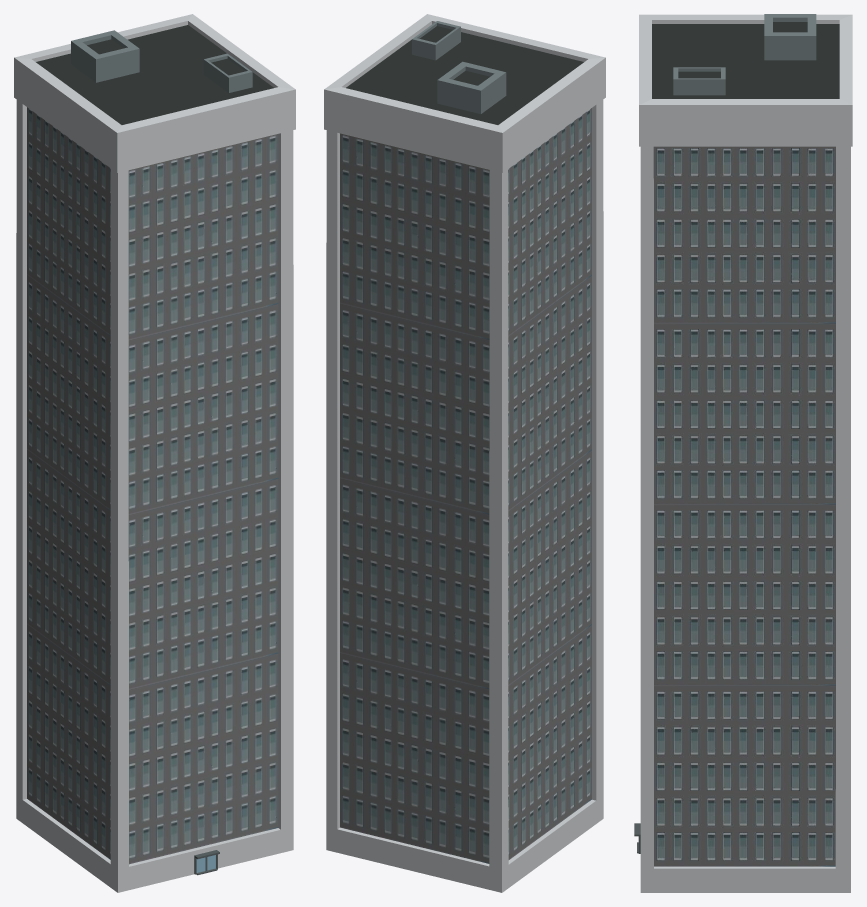
File: High Tower higher Grey.glb
The picture shows the model from 3 angles, left to right: view 1: azimuth 30°, elevation 25°; view 2: azimuth 150°, elevation 25°; view 3: azimuth 270°, elevation 25°; orthographic projection. The views are drawn at different scales.
Visible parts, largest first — view 1: High Tower higher Grey; view 2: High Tower higher Grey; view 3: High Tower higher Grey.
Part boxes in pixels (box(x1,y1,x2,y2)): High Tower higher Grey: box(14, 14, 295, 892); High Tower higher Grey: box(324, 14, 605, 892); High Tower higher Grey: box(634, 14, 852, 892).
Bounding box in the file's own units: 0.6846 × 2.86 × 0.6999.
1 material, 1 textured.
